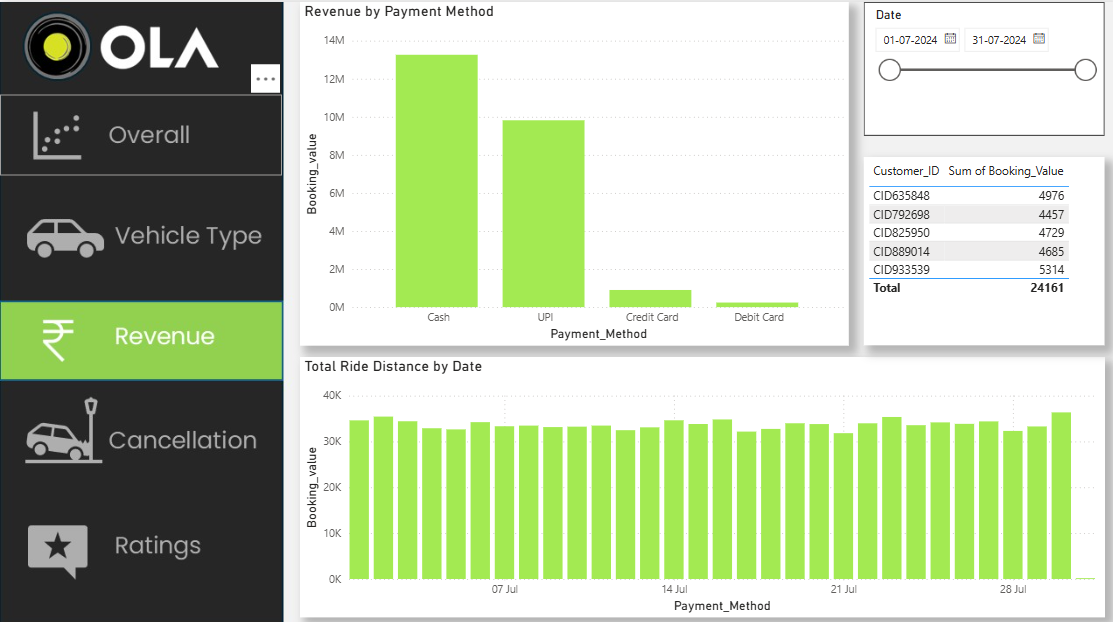

The page's visual inventory and layout, read from the dashboard file:
{"tool":"powerbi","page":{"name":"Revenue","canvas":[1280,720],"ordinal":2},"visuals":[{"type":"actionButton","box":[0,225.1,321.7,92.3],"z":0},{"type":"actionButton","box":[0,336.6,321.7,92.3],"z":1000},{"type":"actionButton","box":[0,458.4,321.7,92.3],"z":2000},{"type":"actionButton","box":[0,576.7,321.7,92.3],"z":3000},{"type":"actionButton","box":[0,106.2,321.7,92.3],"z":4000},{"type":"columnChart","title":"Revenue by Payment Method","fields":{"Y":["Sum(Booking_csv.Booking_Value)"],"Category":["Booking_csv.Payment_Method"]},"box":[342.5,0,627.5,392.5],"z":5000},{"type":"columnChart","title":"Total Ride Distance by Date","fields":{"Y":["Sum(Booking_csv.Ride_Distance)"],"Category":["Booking_csv.Date"]},"box":[342.5,405,920,297.5],"z":6000},{"type":"slicer","title":"Booking status breakdown","fields":{"Values":["Booking_csv.Date"]},"box":[987.5,0,275,152.5],"z":7000},{"type":"tableEx","fields":{"Values":["Booking_csv.Customer_ID","Sum(Booking_csv.Booking_Value)"]},"box":[987.5,177.5,275,215],"z":8000}]}

Visuals, with their boxes on the page's 1280x720 design canvas (x1, y1, x2, y2). These are canvas units, not pixel positions in the 1113x622 screenshot, which may show the page scaled, cropped or inside an application window:
actionButton: bbox=(0, 225, 322, 317)
actionButton: bbox=(0, 337, 322, 429)
actionButton: bbox=(0, 458, 322, 551)
actionButton: bbox=(0, 577, 322, 669)
actionButton: bbox=(0, 106, 322, 198)
"Revenue by Payment Method" columnChart: bbox=(342, 0, 970, 392)
"Total Ride Distance by Date" columnChart: bbox=(342, 405, 1262, 702)
"Booking status breakdown" slicer: bbox=(988, 0, 1262, 152)
tableEx - Booking_csv.Customer_ID x Sum(Booking_csv.Booking_Value): bbox=(988, 178, 1262, 392)
